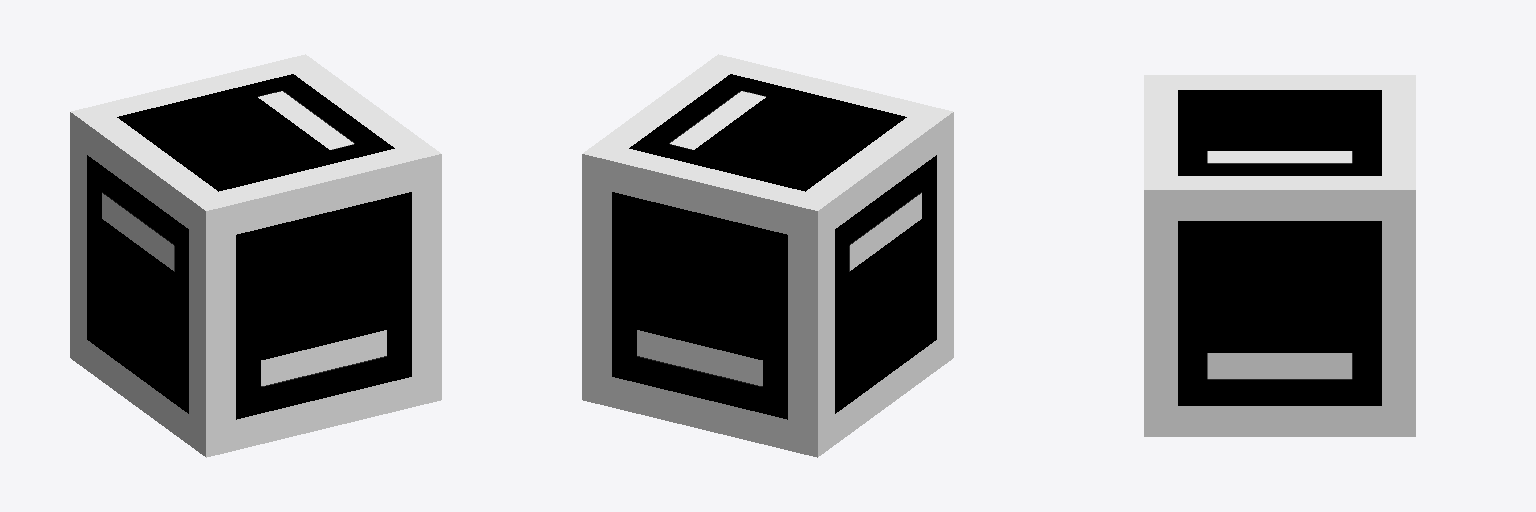
The picture shows the model from 3 angles: view 1: azimuth 30°, elevation 25°; view 2: azimuth 150°, elevation 25°; view 3: azimuth 270°, elevation 25°; orthographic projection.
Visible parts, largest first — view 1: Cube; view 2: Cube; view 3: Cube.
Part boxes in pixels (bbox=[...]): Cube: bbox=[70, 54, 441, 457]; Cube: bbox=[582, 54, 953, 457]; Cube: bbox=[1144, 75, 1415, 436].
Bounding box in the file's own units: 2 × 2 × 2.
Materials: 1 (1 with a texture image).